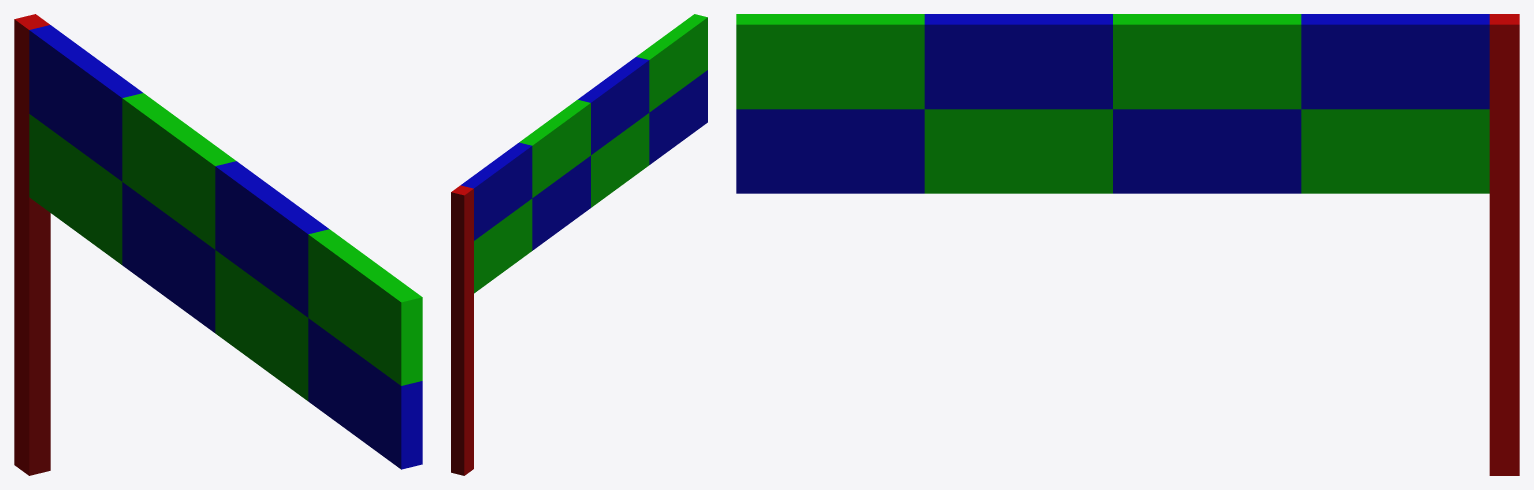
File: start_flag.obj
The picture shows the model from 3 angles, left to right: view 1: azimuth 30°, elevation 25°; view 2: azimuth 150°, elevation 25°; view 3: azimuth 270°, elevation 25°; orthographic projection. The views are drawn at different scales.
Visible parts, largest first — view 1: Cube.001; view 2: Cube.001; view 3: Cube.001.
Boxes of the visible parts, x1=… form: Cube.001: x1=14, y1=14, x2=422, y2=475; Cube.001: x1=451, y1=14, x2=707, y2=475; Cube.001: x1=736, y1=14, x2=1519, y2=475.
Size of the model in its own units: 4 by 80 by 126.
